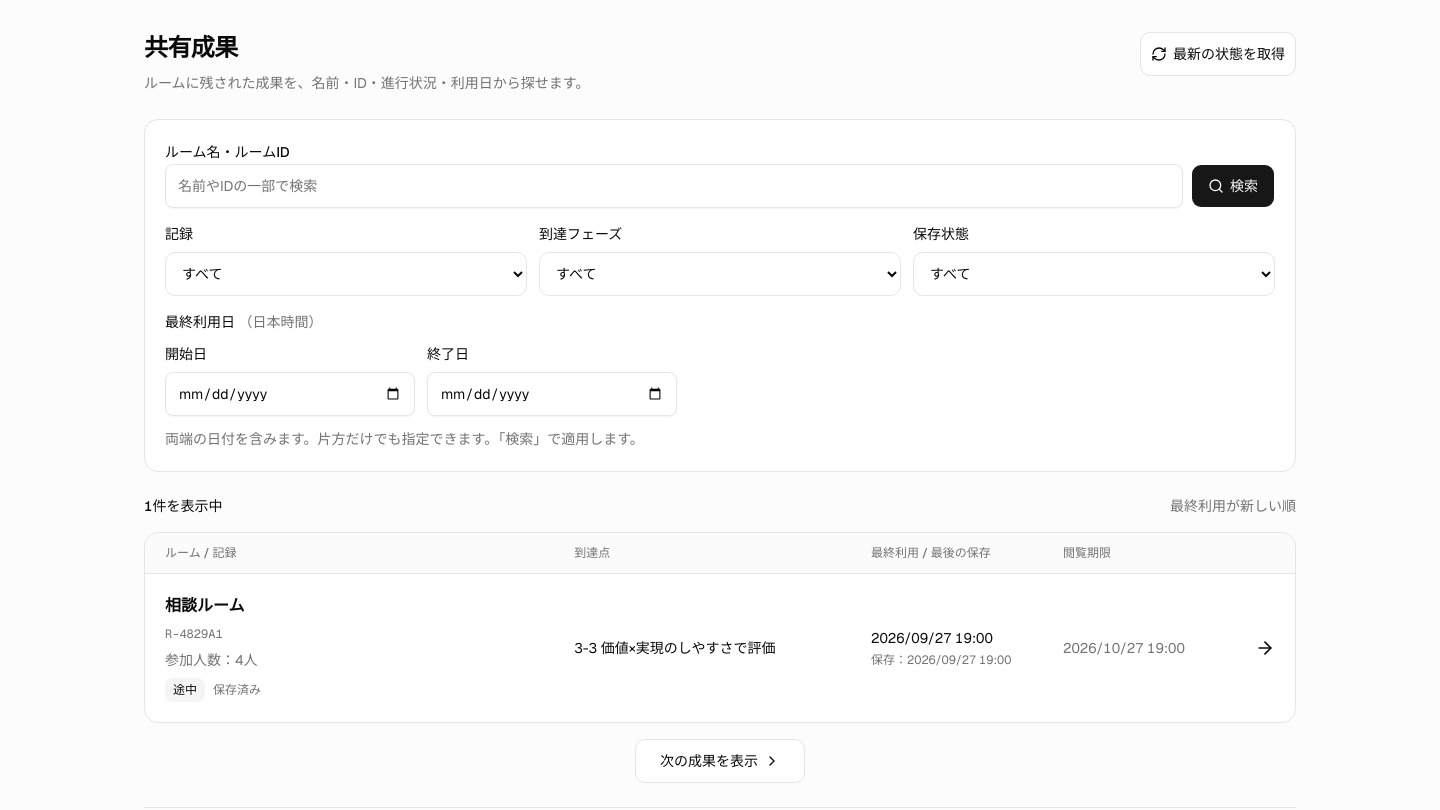
Test: 前の検索の遅い応答で新しい条件の結果を上書きしない
The width and height of the screenshot is (1440, 810).
Check: the link "相談ルーム" is shown, box [145,574,1295,722]
Type "古い条件" into the search field.
click(674, 186); type("古い条件")  # box [165,164,1183,208]
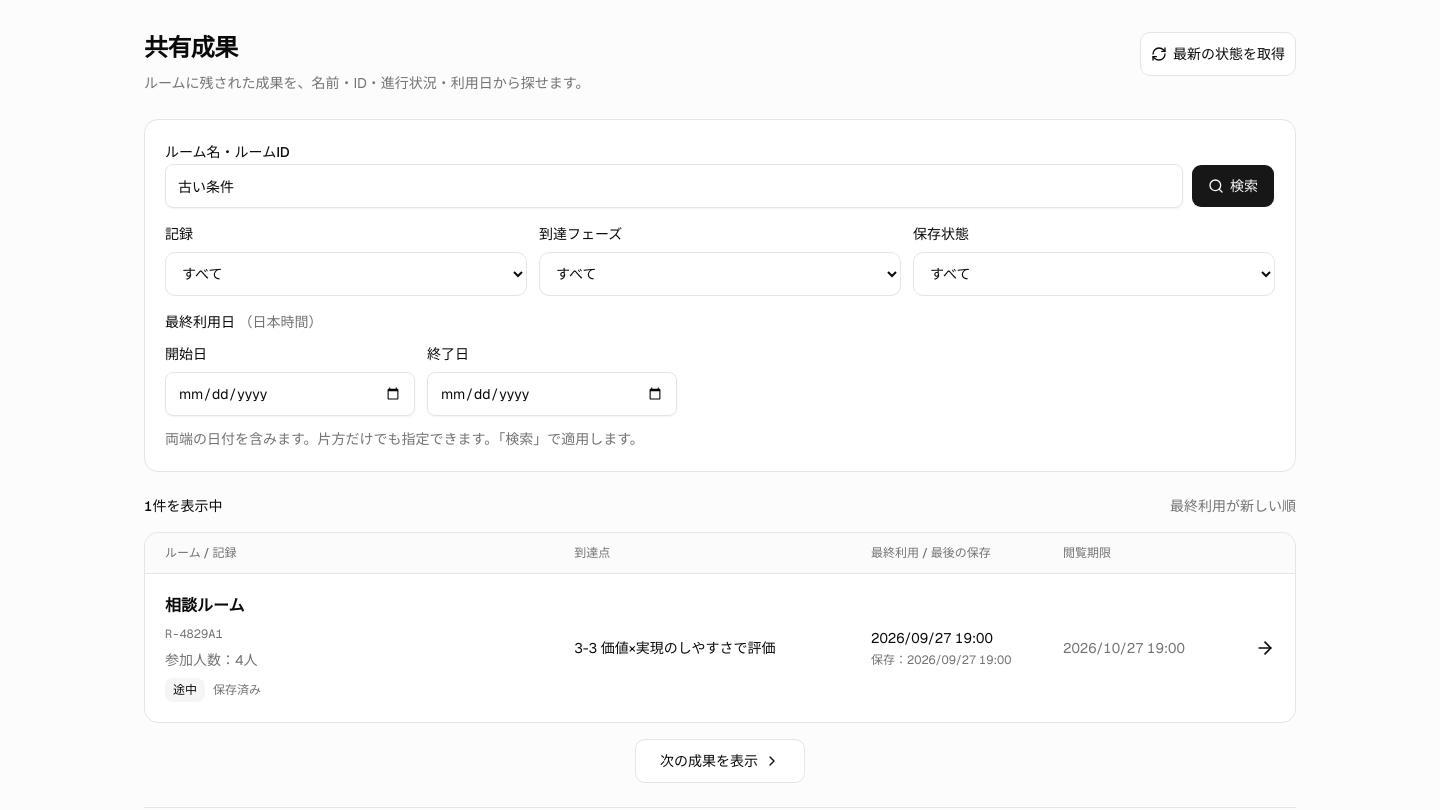
Click the button "検索".
click(1233, 186)  # box [1191,164,1275,208]
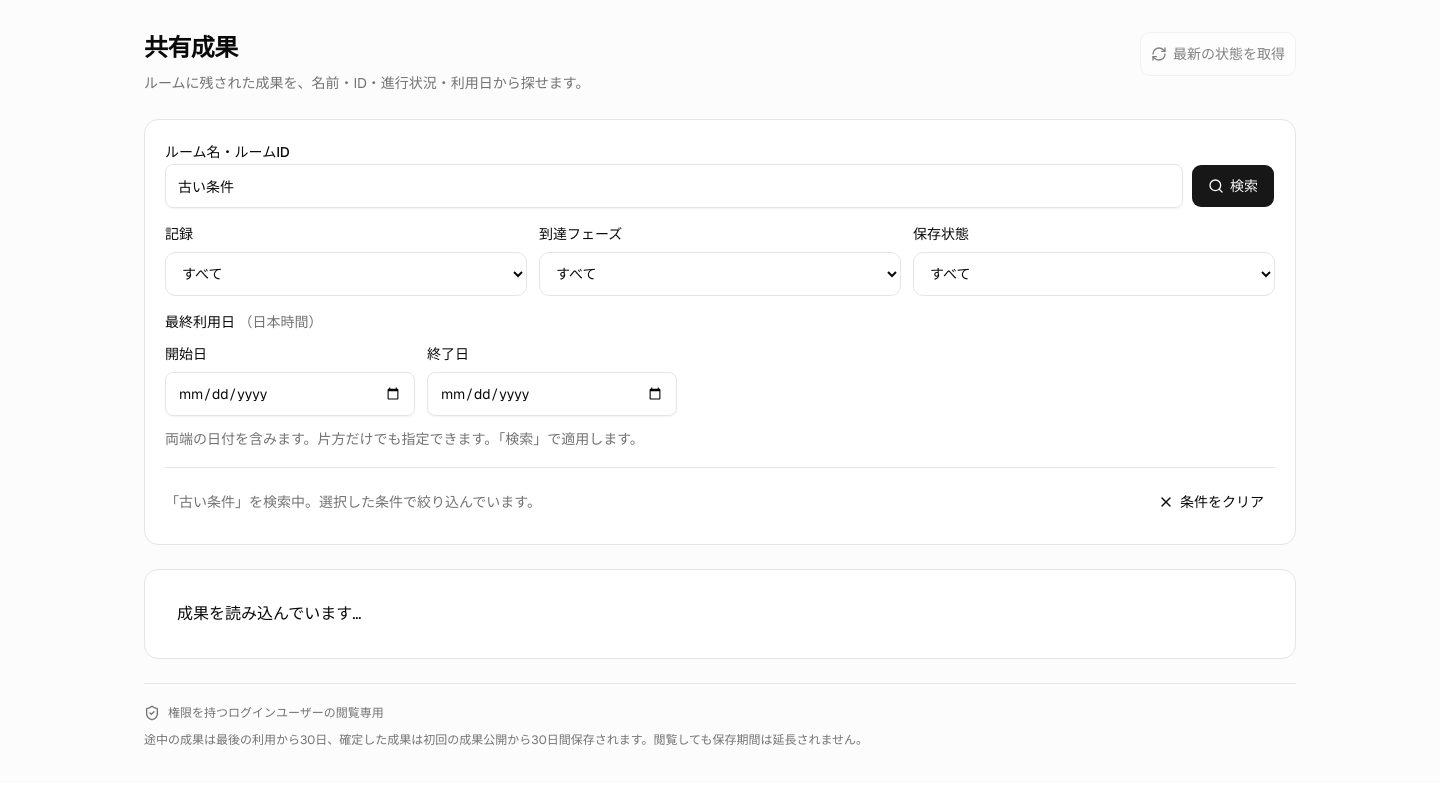
Replace the text in the search field with "新しい条件" at (674, 186), box [165,164,1183,208]
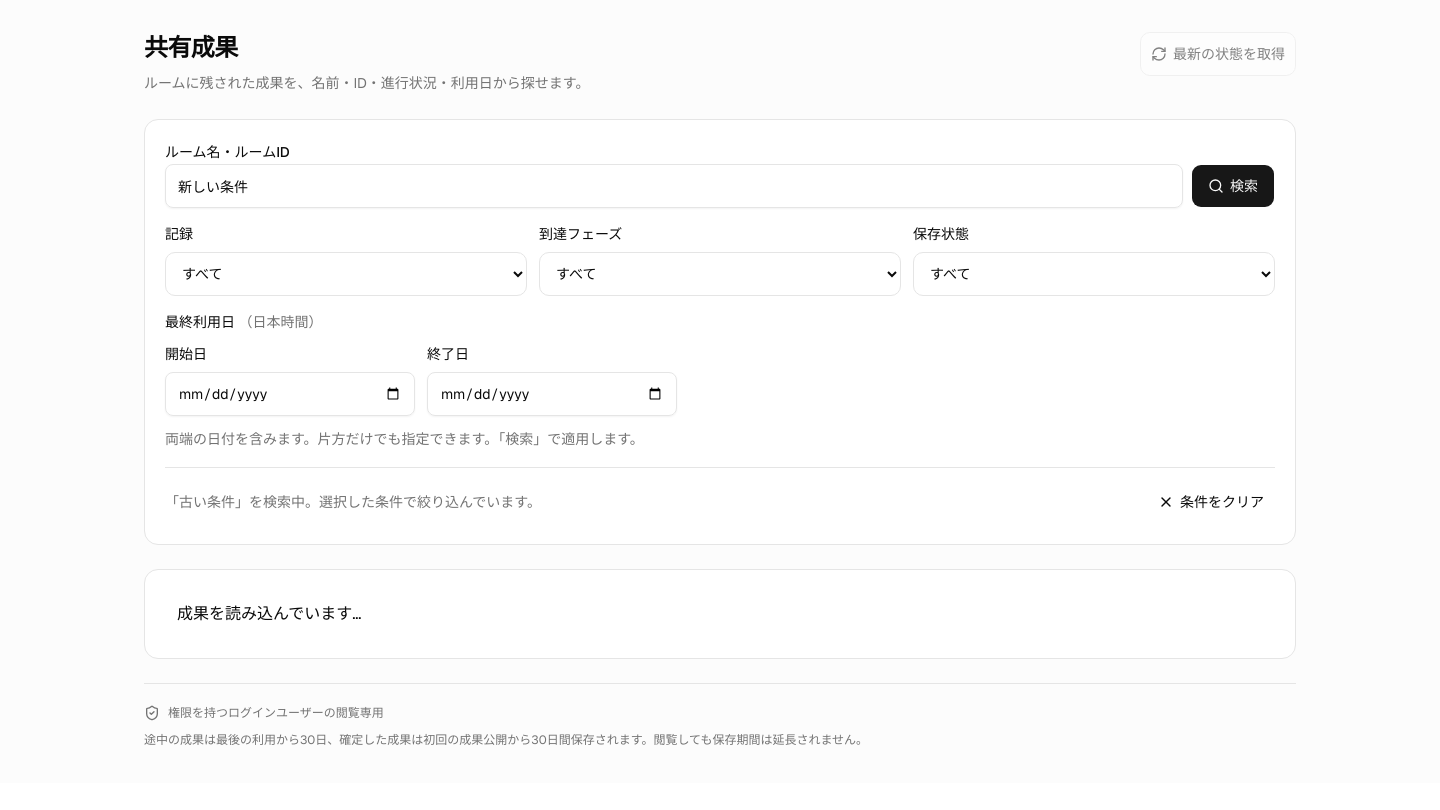
Click the button "検索".
click(1233, 186)  # box [1191,164,1275,208]
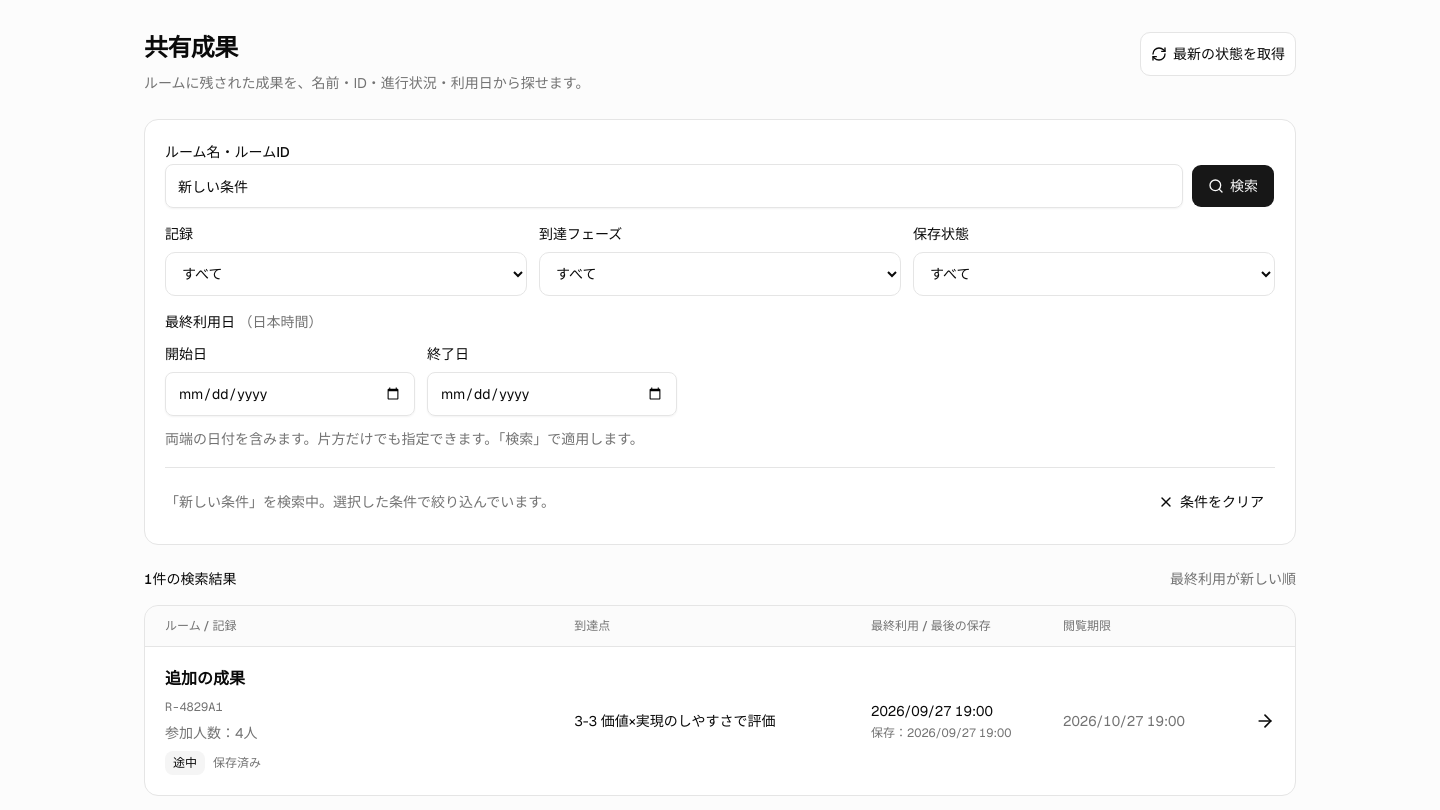
Check: the link "相談ルーム" is not shown
Check: the link "追加の成果" is shown, box [145,646,1295,794]
